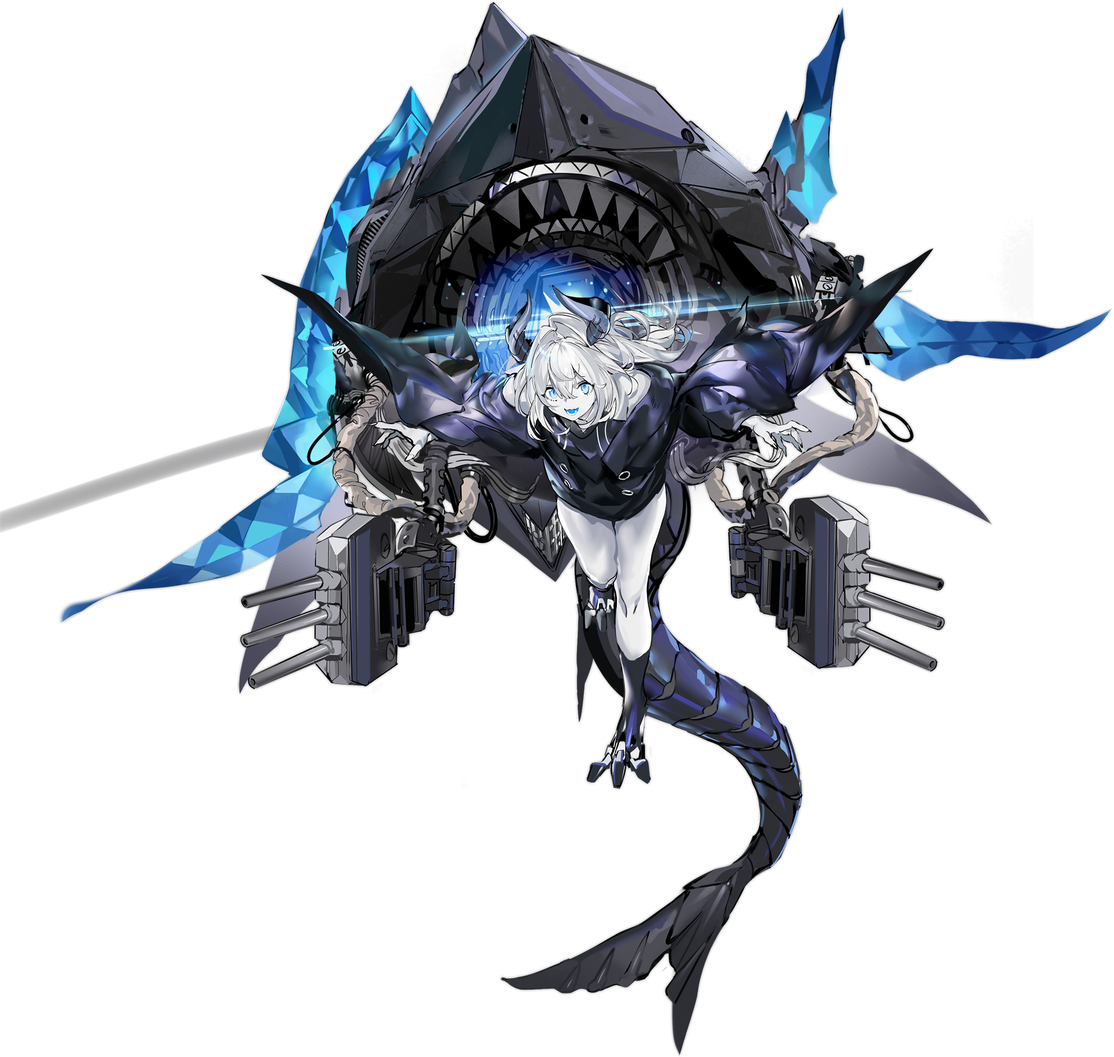person: (345, 287, 827, 1055)
